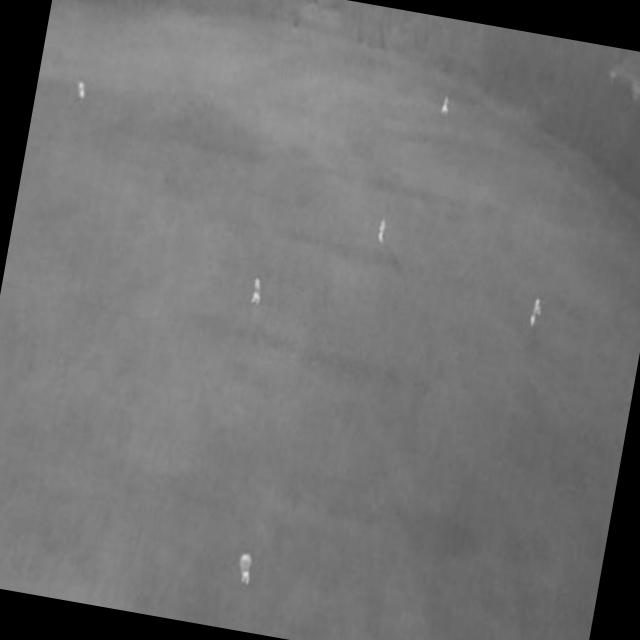person: (234, 548, 256, 589), (527, 298, 543, 329), (248, 277, 264, 307), (375, 219, 387, 246), (75, 80, 88, 101), (439, 95, 450, 117)
